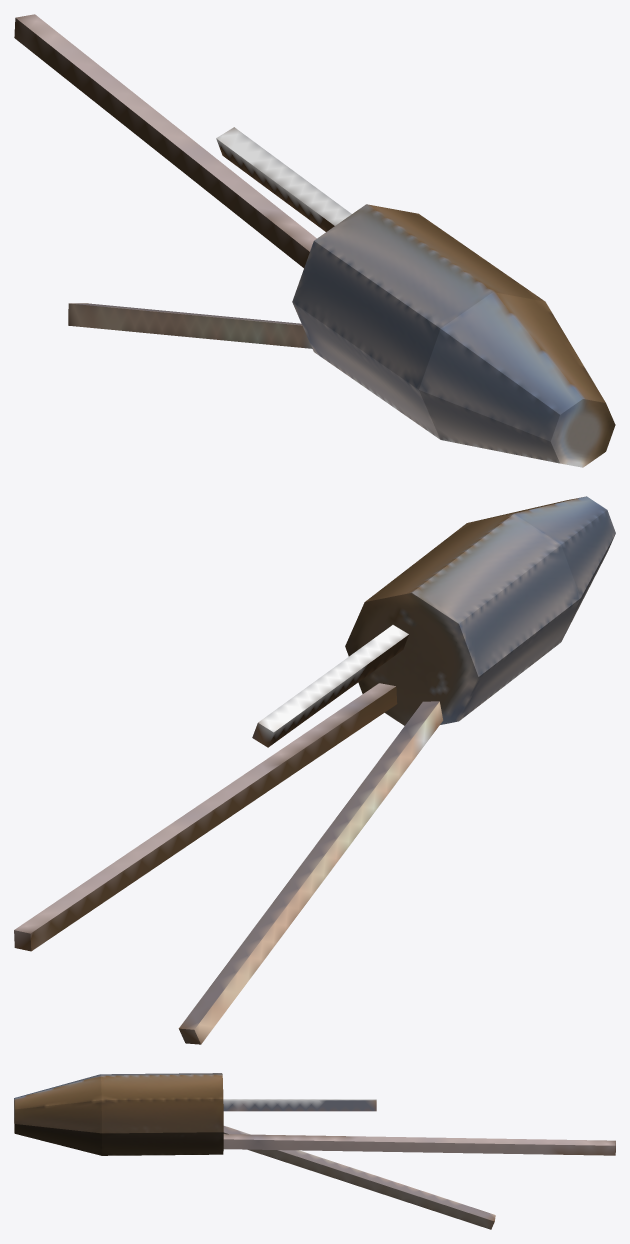
3 views of the same model, one above another, from view 1: azimuth 30°, elevation 25°; view 2: azimuth 150°, elevation 25°; view 3: azimuth 270°, elevation 25° (orthographic). The views are drawn at different scales.
Visible parts, largest first — view 1: Bala_Cylinder.003, Estela_1_Cube.006, Estela_3_Cube.008, Estela_2_Cube.007; view 2: Bala_Cylinder.003, Estela_1_Cube.006, Estela_3_Cube.008, Estela_2_Cube.007; view 3: Bala_Cylinder.003, Estela_1_Cube.006, Estela_3_Cube.008, Estela_2_Cube.007.
Part boxes in pixels (bbox=[...]): Bala_Cylinder.003: bbox=[292, 204, 615, 467]; Estela_1_Cube.006: bbox=[14, 14, 316, 267]; Estela_3_Cube.008: bbox=[68, 303, 312, 348]; Estela_2_Cube.007: bbox=[216, 127, 351, 231]; Bala_Cylinder.003: bbox=[345, 496, 615, 725]; Estela_1_Cube.006: bbox=[14, 683, 397, 951]; Estela_3_Cube.008: bbox=[178, 701, 443, 1044]; Estela_2_Cube.007: bbox=[252, 625, 408, 747]; Bala_Cylinder.003: bbox=[14, 1073, 223, 1155]; Estela_1_Cube.006: bbox=[223, 1134, 615, 1155]; Estela_3_Cube.008: bbox=[223, 1126, 495, 1229]; Estela_2_Cube.007: bbox=[223, 1099, 376, 1111].
Size of what is drawn, in the model's own units: 0.2897 by 0.5625 by 1.94.
